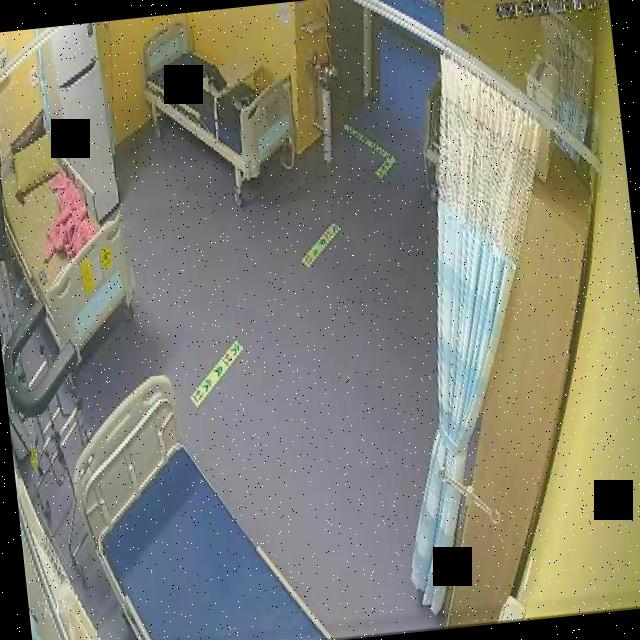bed: (59, 357, 327, 640), (0, 121, 141, 358), (140, 10, 302, 187)
walker: (0, 292, 97, 526)
